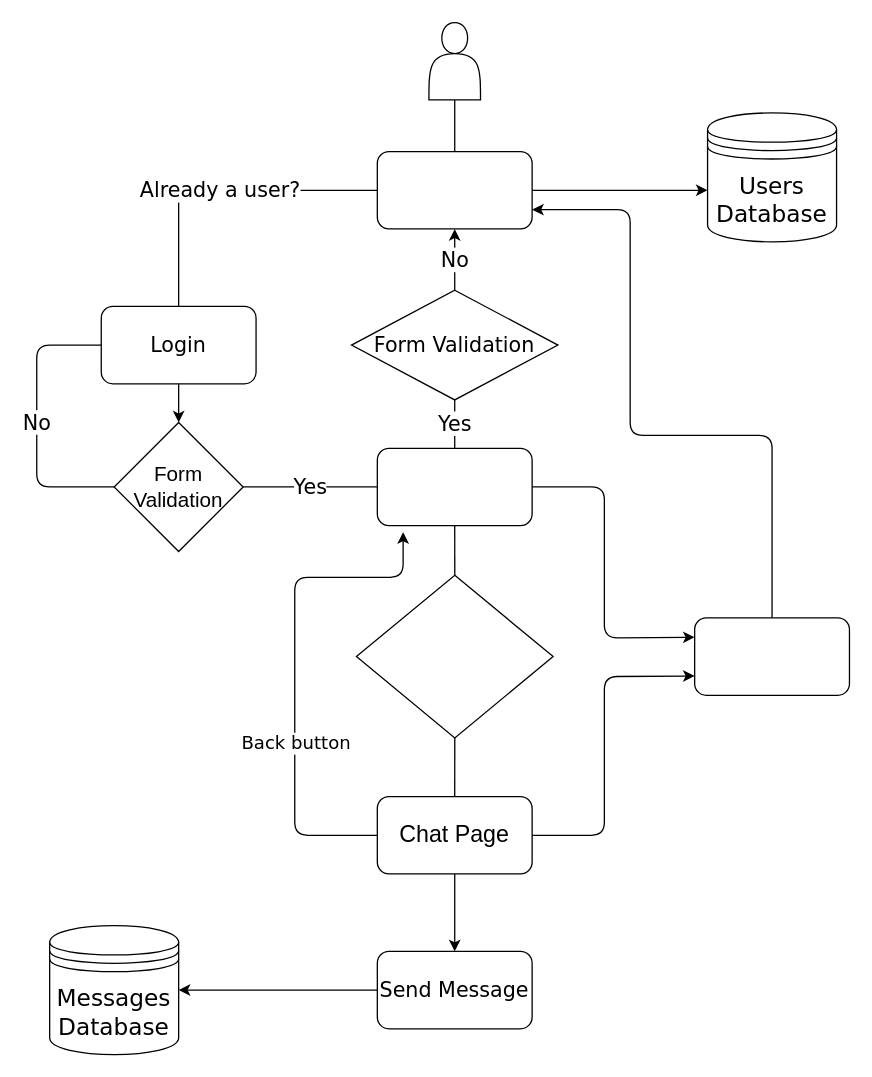
Some shapes in this 872 by 1077 pixel diagram are drawn without their labels. The centre of each missing label's shape, as x and y in pixels:
"Home Page / users page" goes at (454,486).
"Logout" goes at (771,656).
"Select User to chat" goes at (454,656).
"Signup" goes at (454,189).
